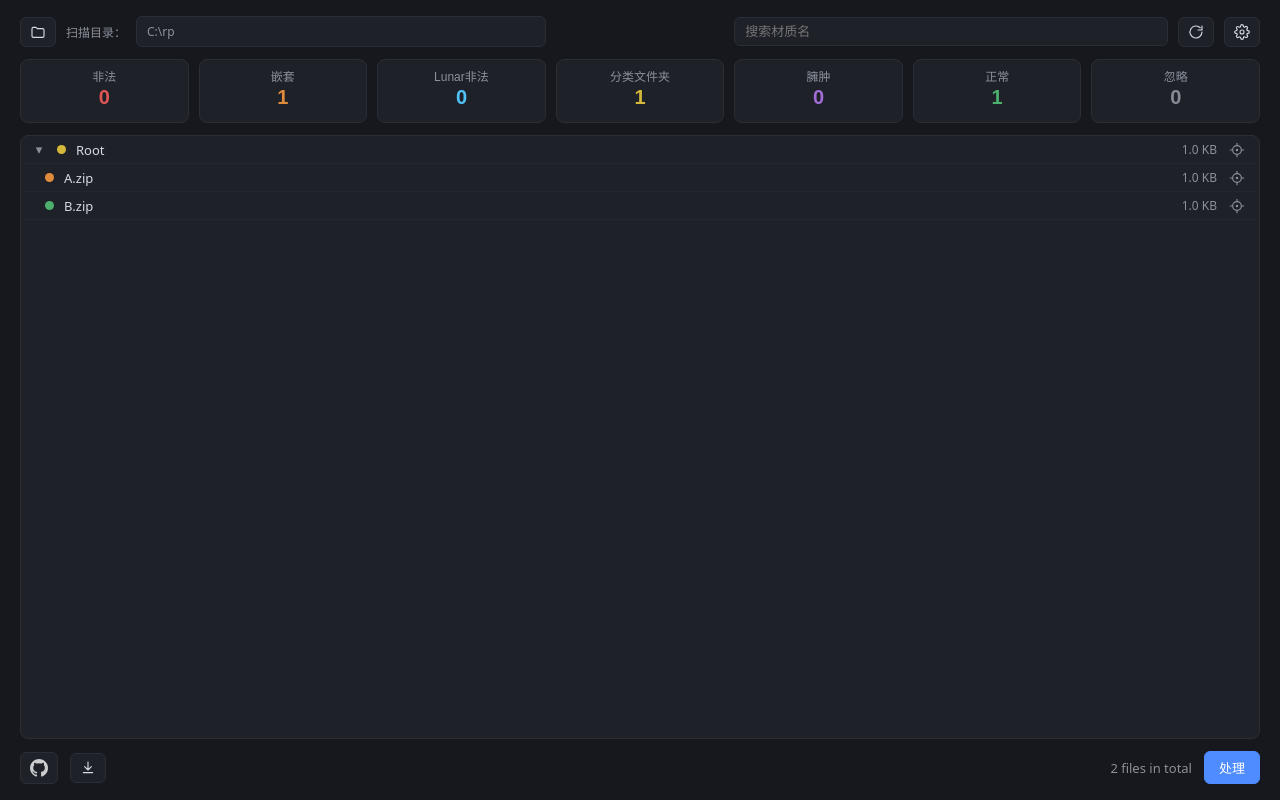
Test case: folders stay collapsible while a card filter is active
# Activating the nested card expands folders so matches are visible...
Click the text "嵌套". click: [283, 77]
box: top-left (271, 70), bottom-right (295, 84)
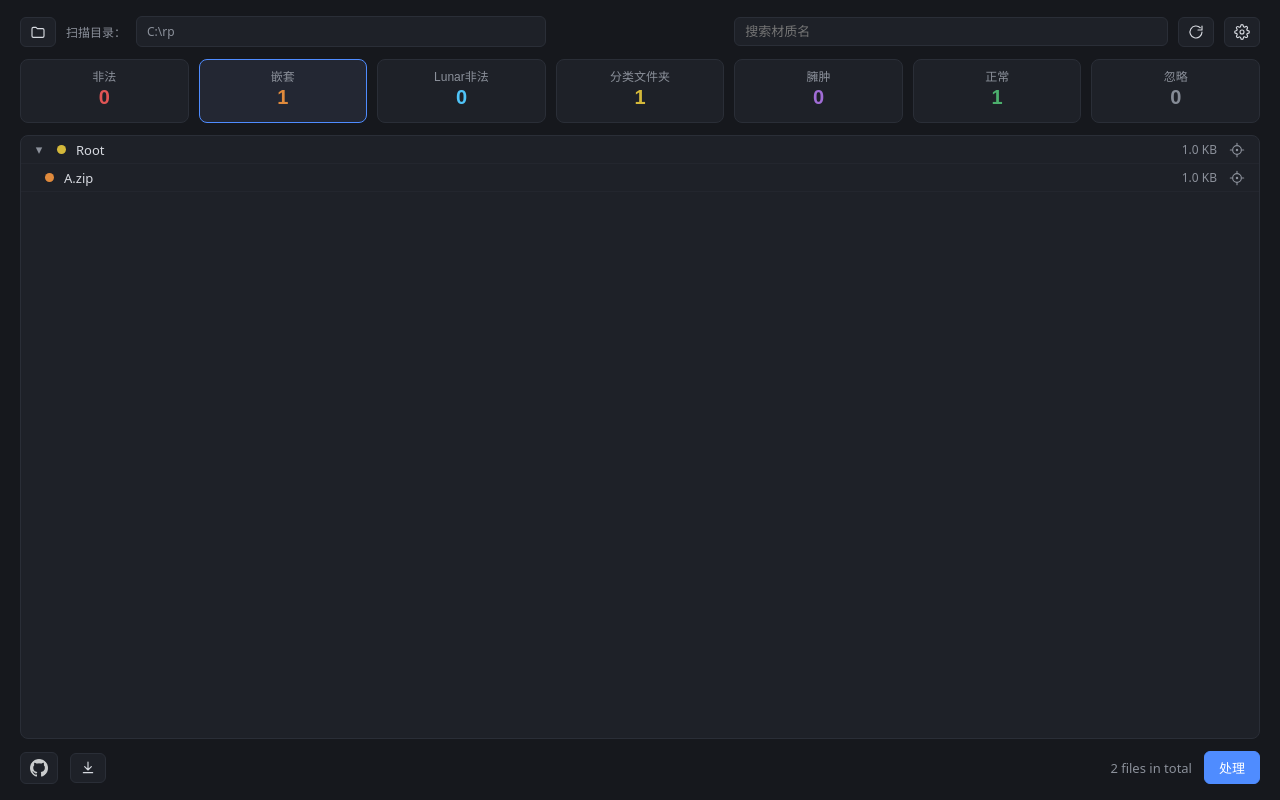
Expected: the text "A.zip" is shown, top-left (64, 168), bottom-right (93, 186)
# ...but the user can still collapse the folder back.
Click the button named "折叠 Root". click: [39, 150]
box: top-left (31, 142), bottom-right (47, 157)
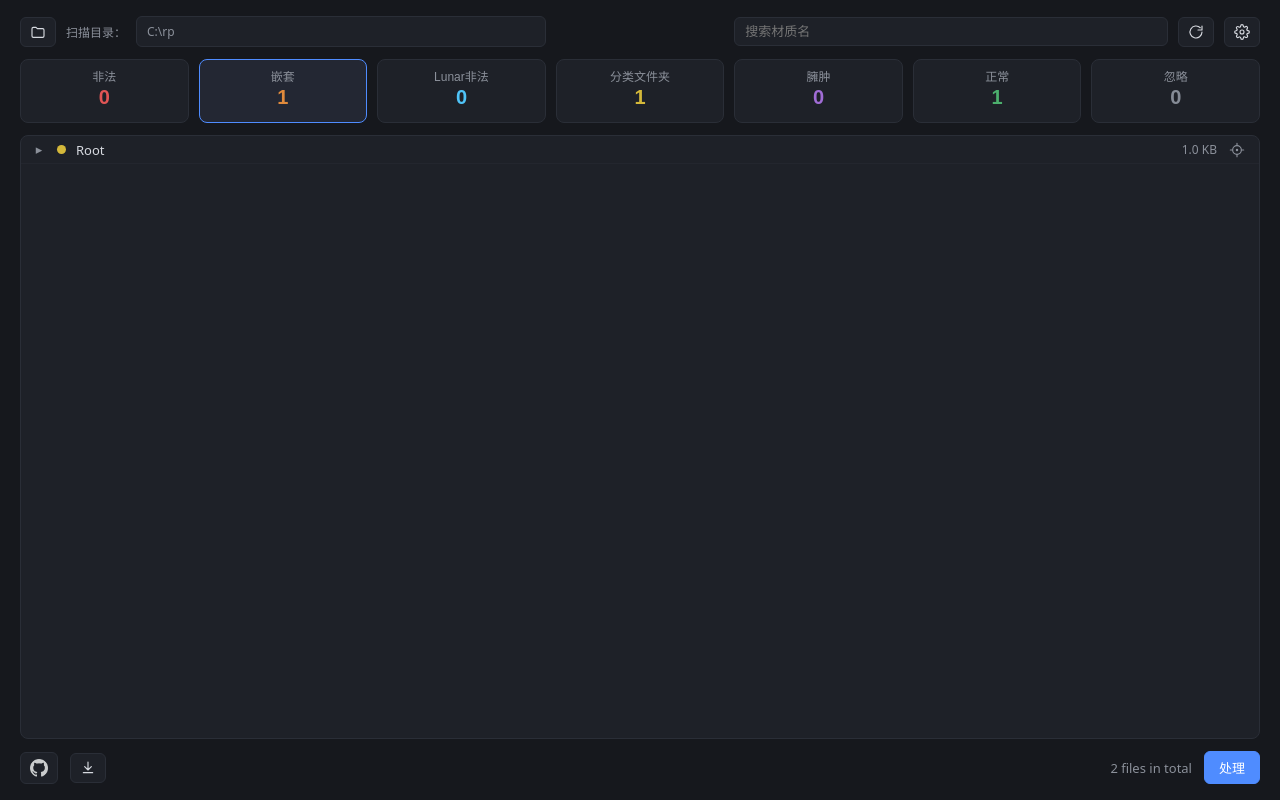
Expected: the text "A.zip" is gone
Expected: the button named "展开 Root" is shown, top-left (31, 142), bottom-right (47, 157)
